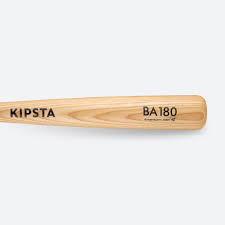baseball bat: (1, 94, 208, 127)
